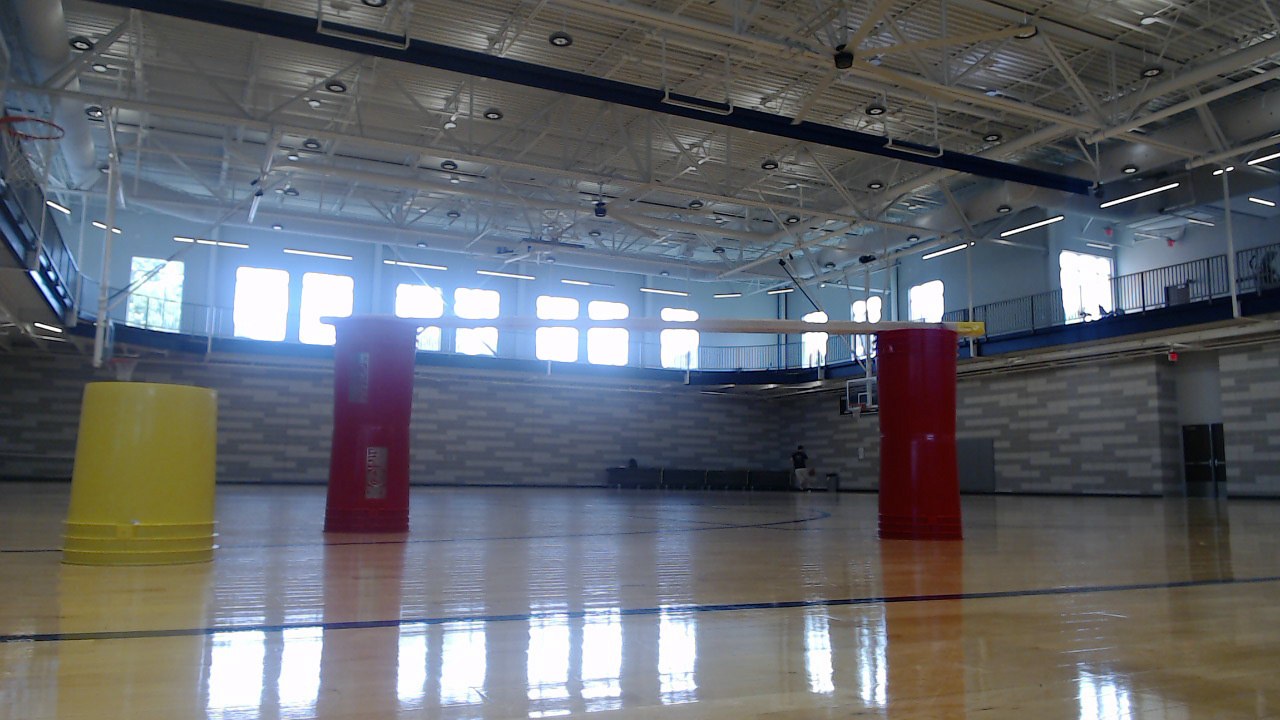red_bucket_arch: (321, 317, 976, 552)
yellow_bucket: (61, 379, 231, 575)
